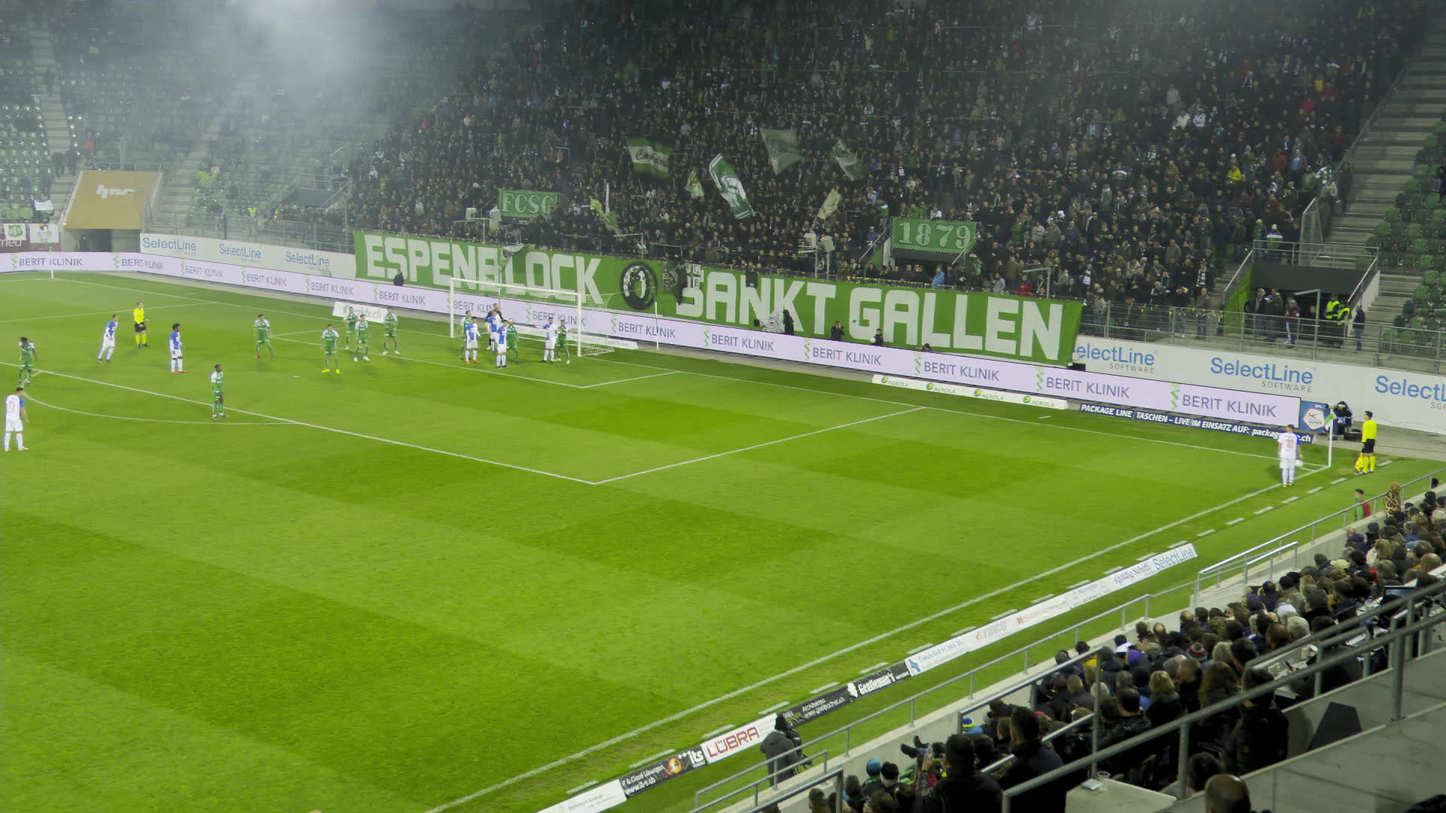ball: (1294, 458, 1302, 467)
player: (1276, 423, 1304, 487), (2, 387, 28, 452), (320, 324, 343, 374), (96, 314, 118, 364), (209, 364, 228, 420), (17, 336, 37, 387), (167, 323, 187, 373), (380, 306, 400, 355), (252, 313, 273, 359), (484, 303, 503, 349), (352, 313, 370, 361), (464, 315, 481, 364), (540, 317, 558, 363), (501, 318, 519, 363), (554, 318, 570, 364), (495, 319, 510, 368), (458, 309, 472, 359), (343, 305, 358, 349), (488, 309, 502, 353)
referee: (1356, 410, 1376, 474), (133, 301, 151, 347)
